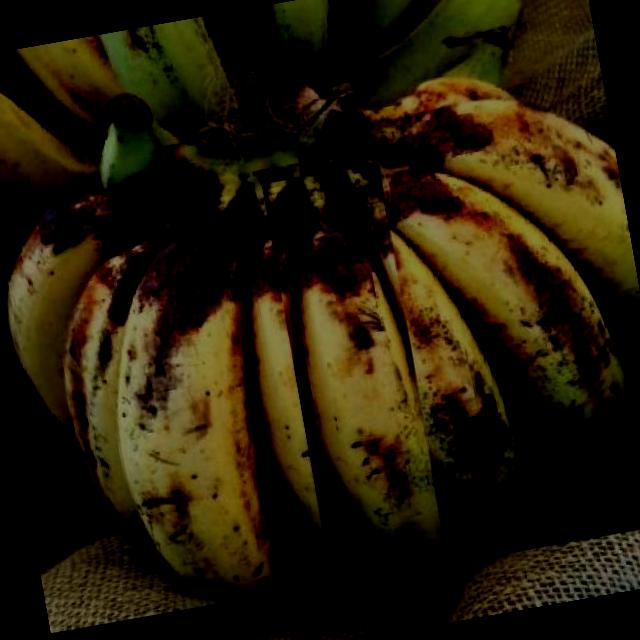Banana: (0, 46, 640, 634), (0, 0, 552, 232)
